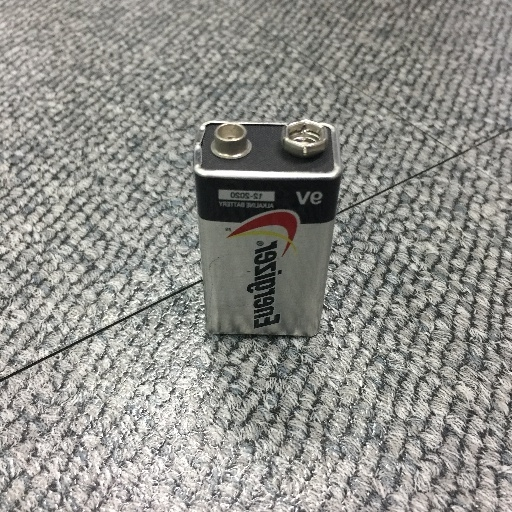Battery_3: (170, 104, 362, 368)
